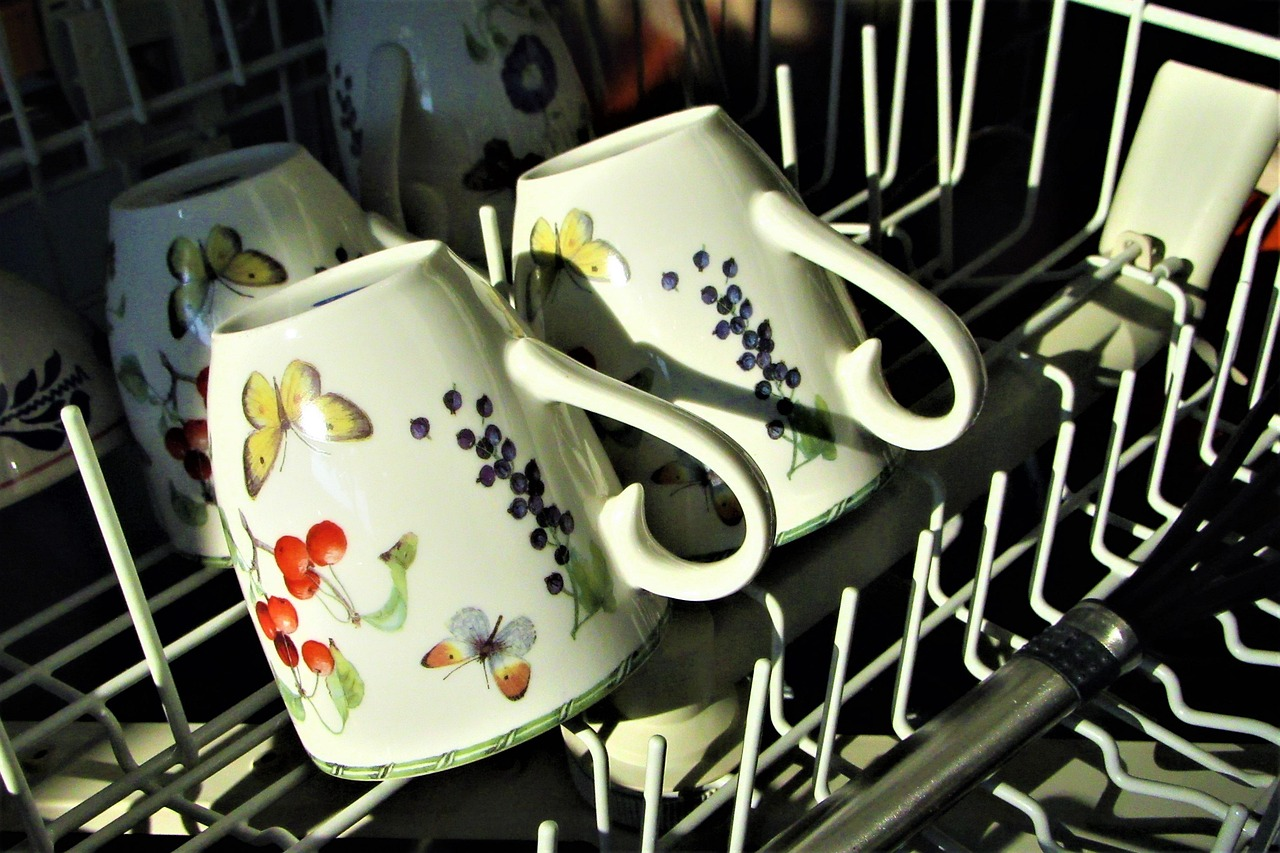mug: (101, 192, 780, 800), (501, 53, 985, 651)
